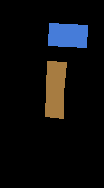parkingspot: (45, 61, 66, 118), (48, 23, 87, 47)
